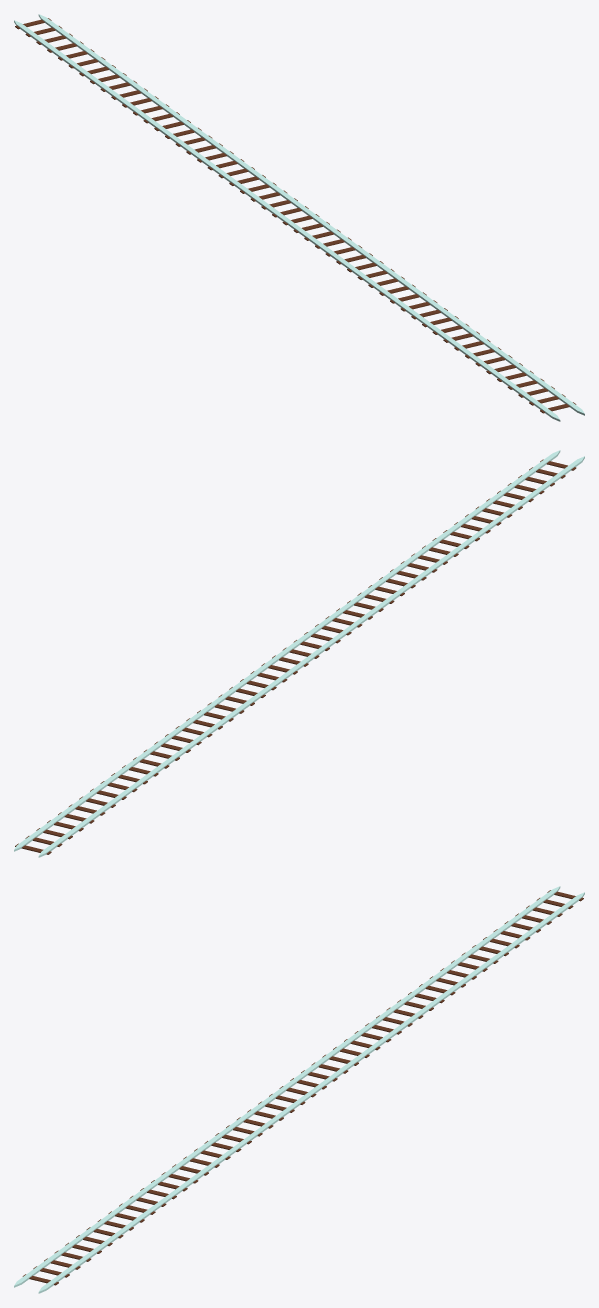
File: TrackRail.fbx
The picture shows the model from 3 angles, top to bottom: view 1: azimuth 30°, elevation 25°; view 2: azimuth 150°, elevation 25°; view 3: azimuth 330°, elevation 25°; orthographic projection.
Visible parts, largest first — view 1: Track; view 2: Track; view 3: Track.
Boxes of the visible parts, x1,y1,x2,y2 form: Track: [14, 14, 584, 421]; Track: [14, 450, 584, 857]; Track: [14, 886, 584, 1293].
Bounding box in the file's own units: 360 × 20 × 10200.
